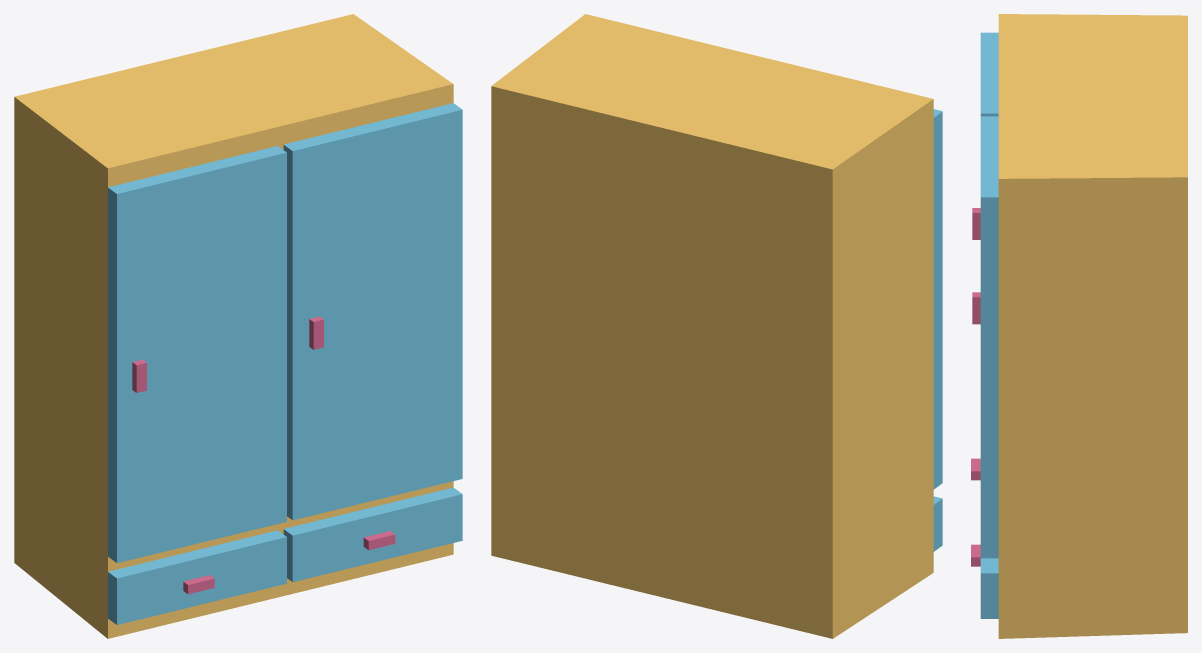
The model's file is wardrobe.FBX.
3 views of the same model, side by side, from view 1: azimuth 30°, elevation 25°; view 2: azimuth 150°, elevation 25°; view 3: azimuth 270°, elevation 25° (orthographic). The views are drawn at different scales.
Visible parts, largest first — view 1: wardrobe; view 2: wardrobe; view 3: wardrobe.
Boxes of the visible parts, left/top/right/bottom form: wardrobe: left=14, top=14, right=462, bottom=638; wardrobe: left=491, top=14, right=942, bottom=638; wardrobe: left=971, top=14, right=1187, bottom=638.
Bounding box in the file's own units: 55.01 × 71.56 × 30.56.
